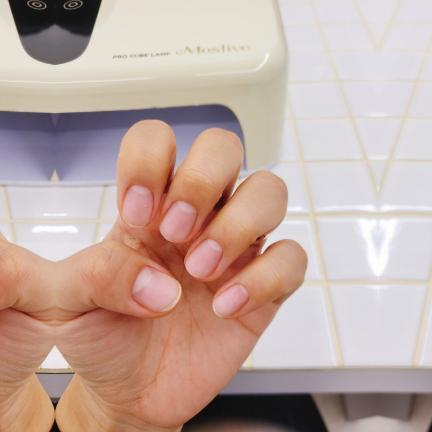Nail: (131, 267, 181, 312), (159, 201, 197, 242), (185, 239, 223, 278), (122, 185, 153, 227), (212, 284, 249, 317)
